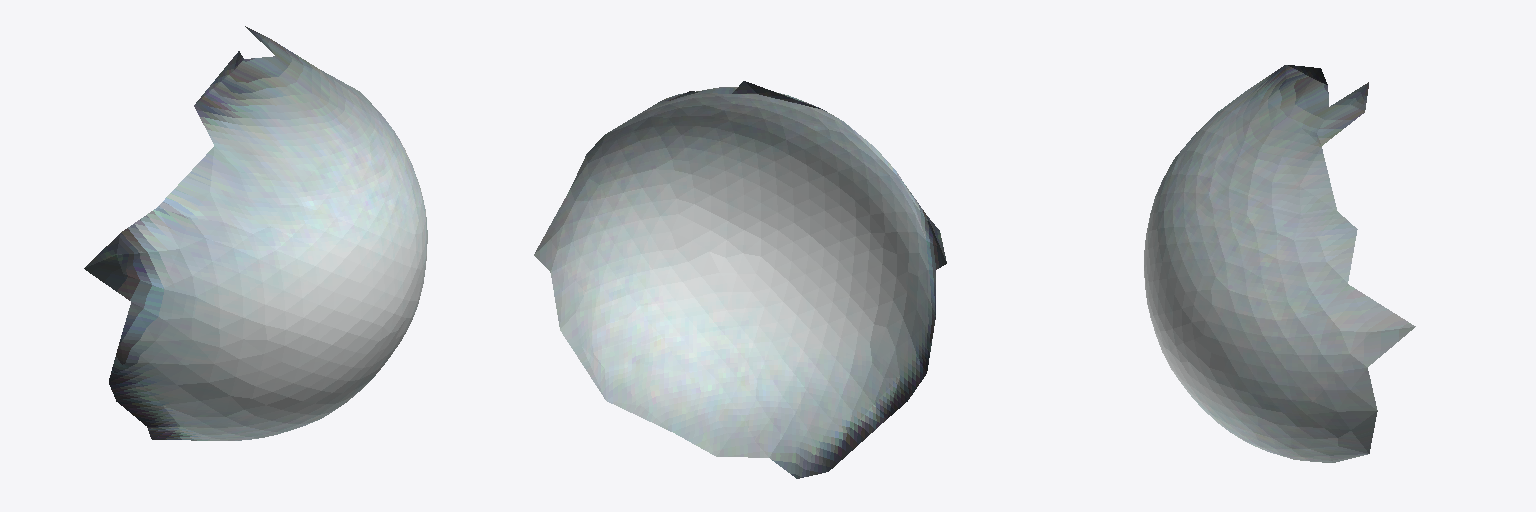
The picture shows the model from 3 angles: view 1: azimuth 30°, elevation 25°; view 2: azimuth 150°, elevation 25°; view 3: azimuth 270°, elevation 25°; orthographic projection.
Size of the model in its own units: 68.73 by 71.08 by 46.08.
1 materials, 1 textured.